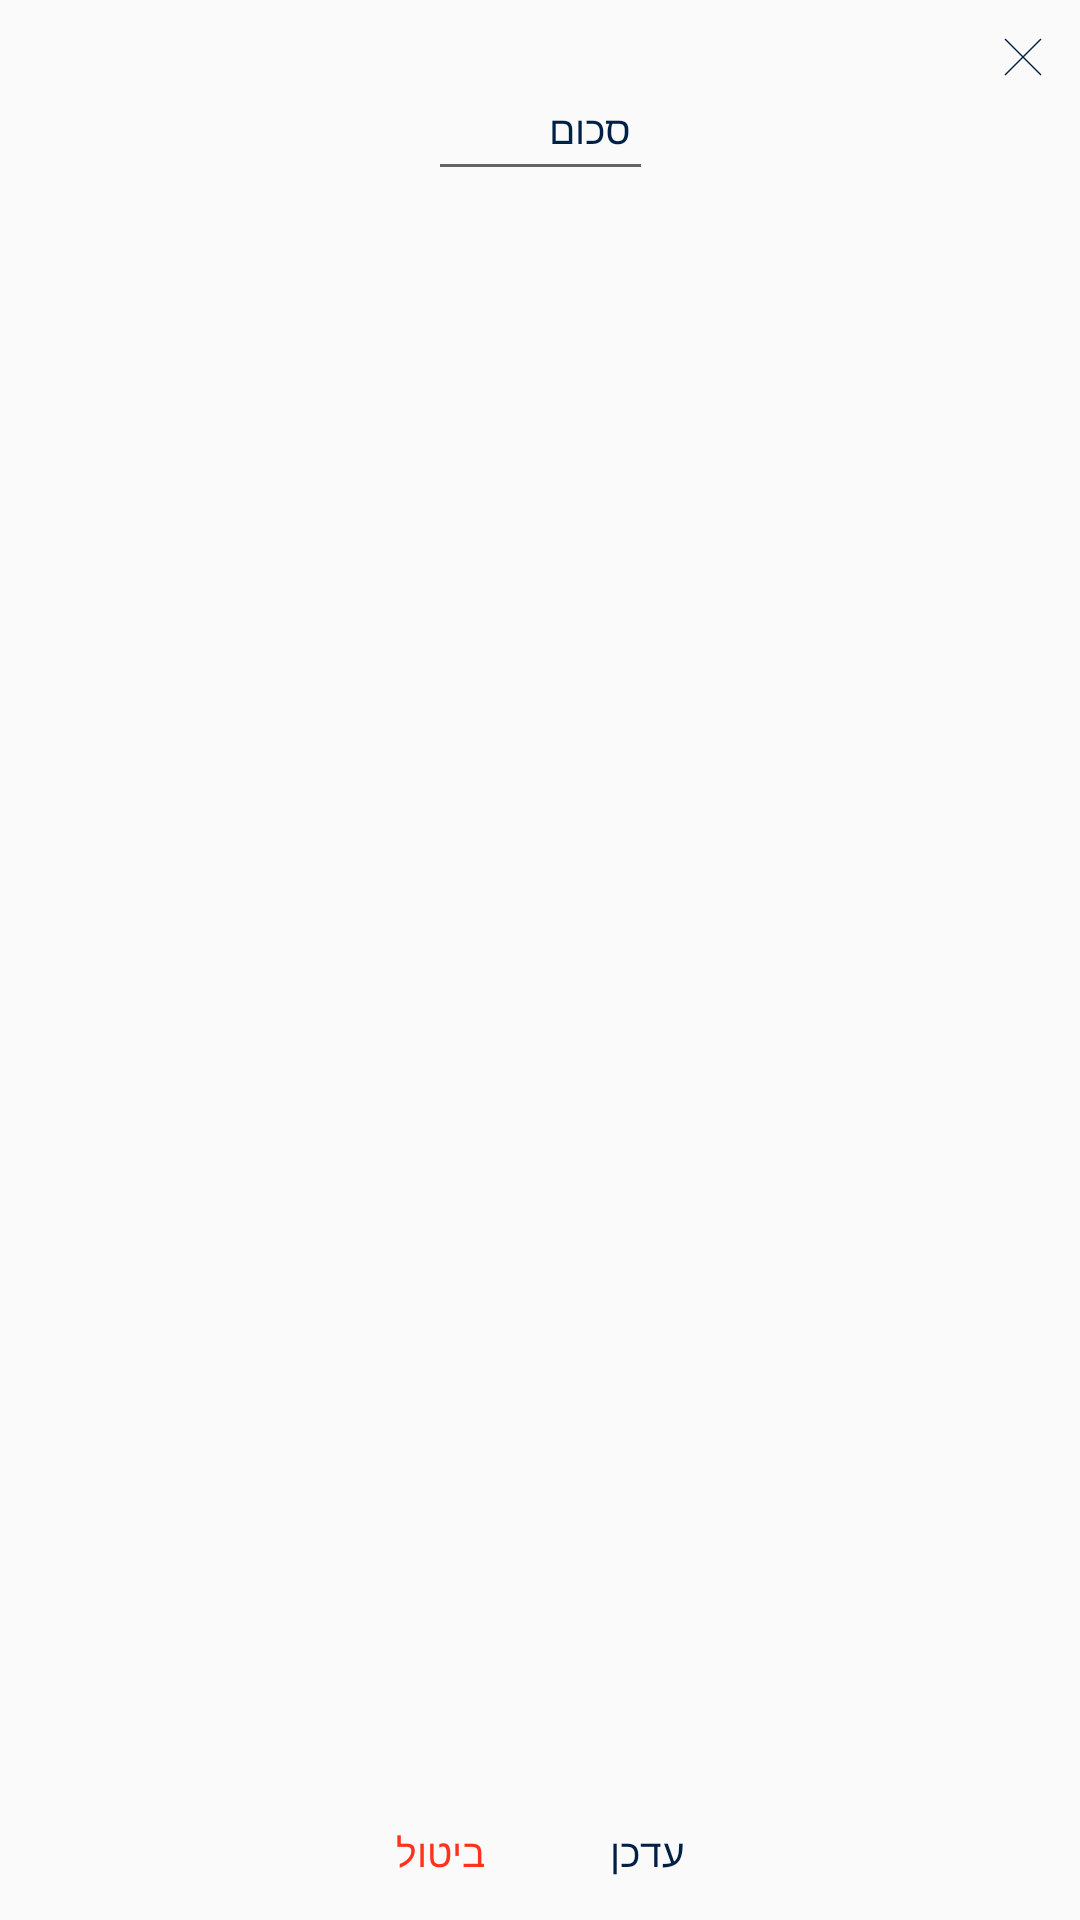

Screen size 1080×1920. Icon name, then its box in pixels as (x1, y1, x2, y2):
close: (1004, 38, 1042, 76)
